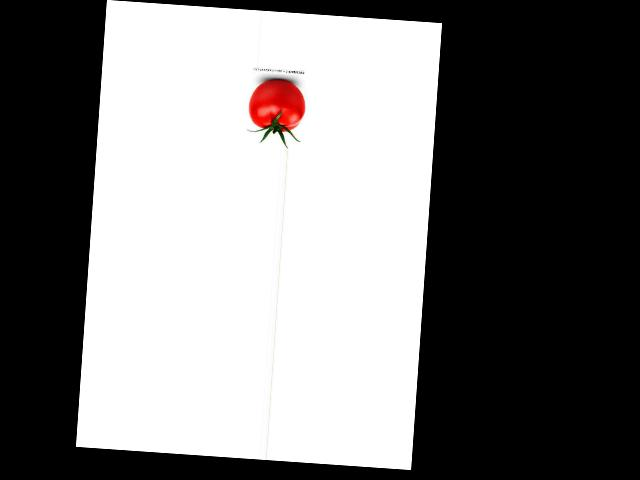tomato: (247, 78, 307, 132)
